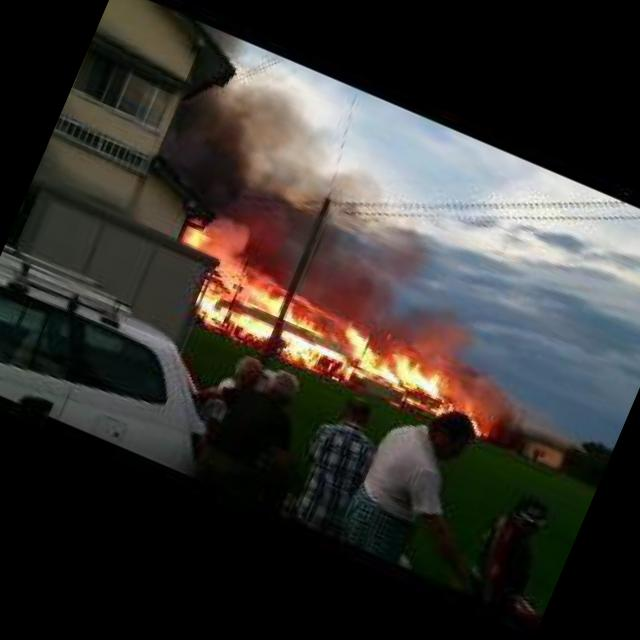fire: (192, 267, 465, 422), (455, 399, 495, 434), (182, 222, 208, 251)
smoke: (150, 56, 376, 288)
